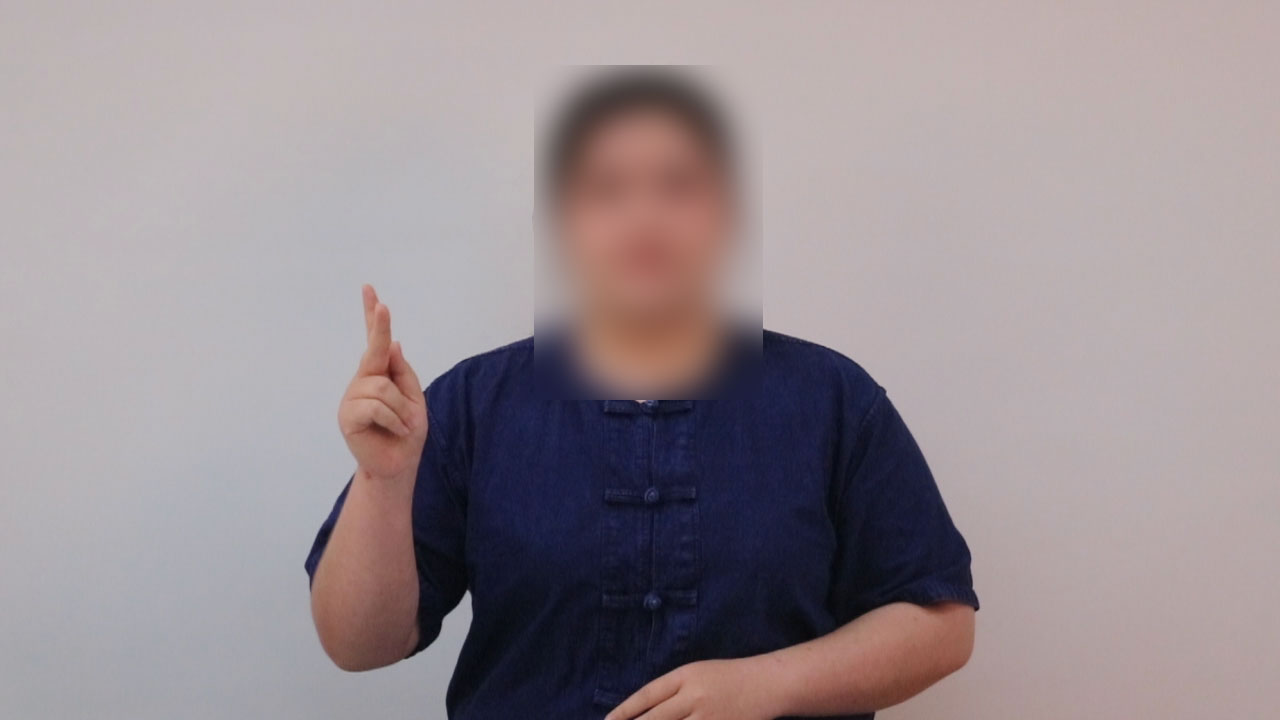ko: (317, 275, 464, 487)
